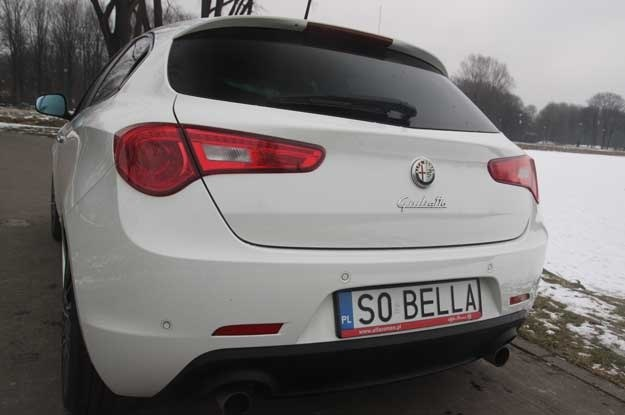number_plate: (334, 276, 482, 339)
